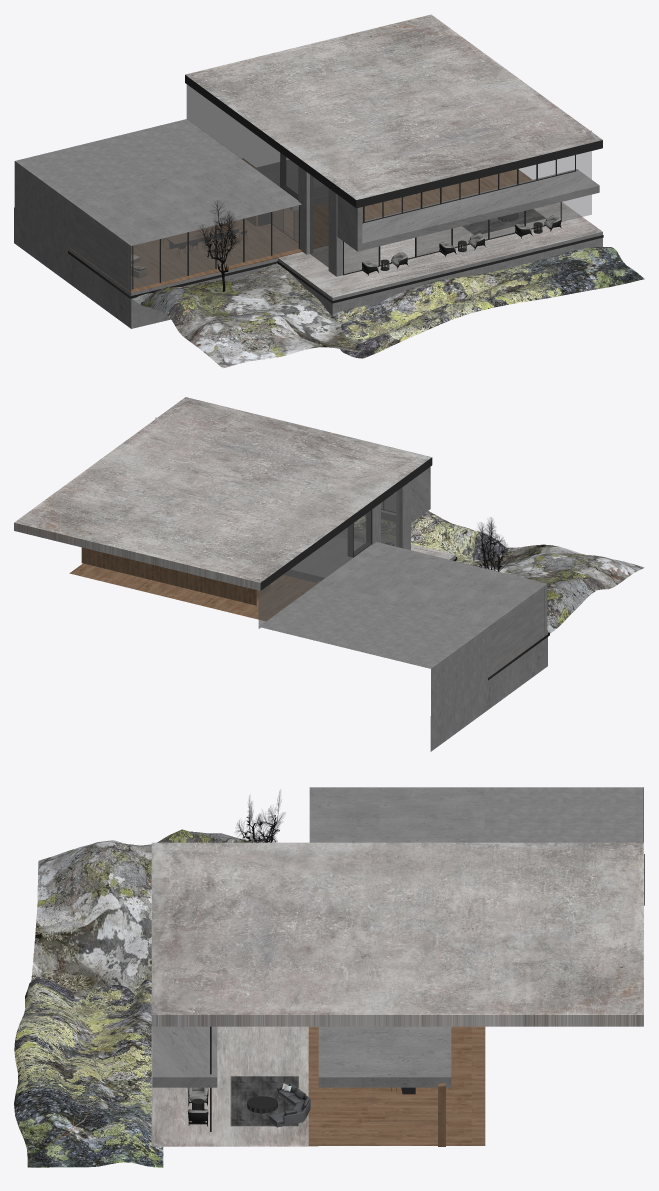
File: villa-beach.glb
3 views of the same model, one above another, from view 1: azimuth 30°, elevation 25°; view 2: azimuth 150°, elevation 25°; view 3: azimuth 270°, elevation 25° (orthographic). The views are drawn at different scales.
Visible parts, largest first — view 1: Plane.002, Cube.003, Plane.001, VillaRockWest, Plane, VillaRockSouth, Cube.002, VillaTerraceGlazing, Cube.017, Cube.014, Cube, Plane.004 (+8 smaller); view 2: Plane.002, Cube.003, Plane.001, VillaRockWest, Cube.014, VillaRockSouth, Cube.009, Cube.001, Cube, Cube.002, node_0.005_Material.013_0, Plane.005; view 3: Plane.002, VillaRockSouth, Cube.003, VillaRockWest, Plane.001, Plane, Cube.001, Cube.002, Plane.007, node_0.001_Material.010_0, node_0.005_Material.013_0, node_0.004_Material.011_0.
Boxes of the visible parts, x1,y1,x2,y2 form: Plane.002: [185, 14, 602, 208]; Cube.003: [14, 119, 301, 292]; Plane.001: [14, 169, 532, 328]; VillaRockWest: [133, 263, 365, 368]; Plane: [278, 202, 602, 315]; VillaRockSouth: [330, 247, 644, 358]; Cube.002: [337, 169, 599, 251]; VillaTerraceGlazing: [344, 130, 591, 273]; Cube.017: [131, 205, 298, 289]; Cube.014: [186, 84, 298, 198]; Cube: [298, 166, 342, 276]; Plane.004: [68, 235, 603, 303]; Plane.002: [14, 397, 432, 590]; Cube.003: [259, 542, 547, 715]; Plane.001: [69, 563, 547, 751]; VillaRockWest: [472, 544, 644, 633]; Cube.014: [258, 510, 371, 628]; VillaRockSouth: [354, 511, 508, 566]; Cube.009: [81, 547, 270, 605]; Cube.001: [283, 536, 364, 582]; Cube: [372, 481, 410, 550]; Cube.002: [365, 467, 430, 522]; node_0.005_Material.013_0: [476, 517, 511, 571]; Plane.005: [381, 490, 399, 547]; Plane.002: [151, 842, 643, 1026]; VillaRockSouth: [14, 976, 163, 1167]; Cube.003: [309, 787, 643, 842]; VillaRockWest: [31, 829, 251, 999]; Plane.001: [308, 854, 644, 1145]; Plane: [151, 1026, 318, 1146]; Cube.001: [318, 1026, 451, 1087]; Cube.002: [152, 1026, 217, 1087]; Plane.007: [230, 1076, 298, 1126]; node_0.001_Material.010_0: [268, 1082, 310, 1127]; node_0.005_Material.013_0: [235, 790, 284, 842]; node_0.004_Material.011_0: [187, 1087, 208, 1126].
Size of the model in its own units: 47.32 by 13.3 by 41.37.
Materials: 14 (11 with a texture image).
